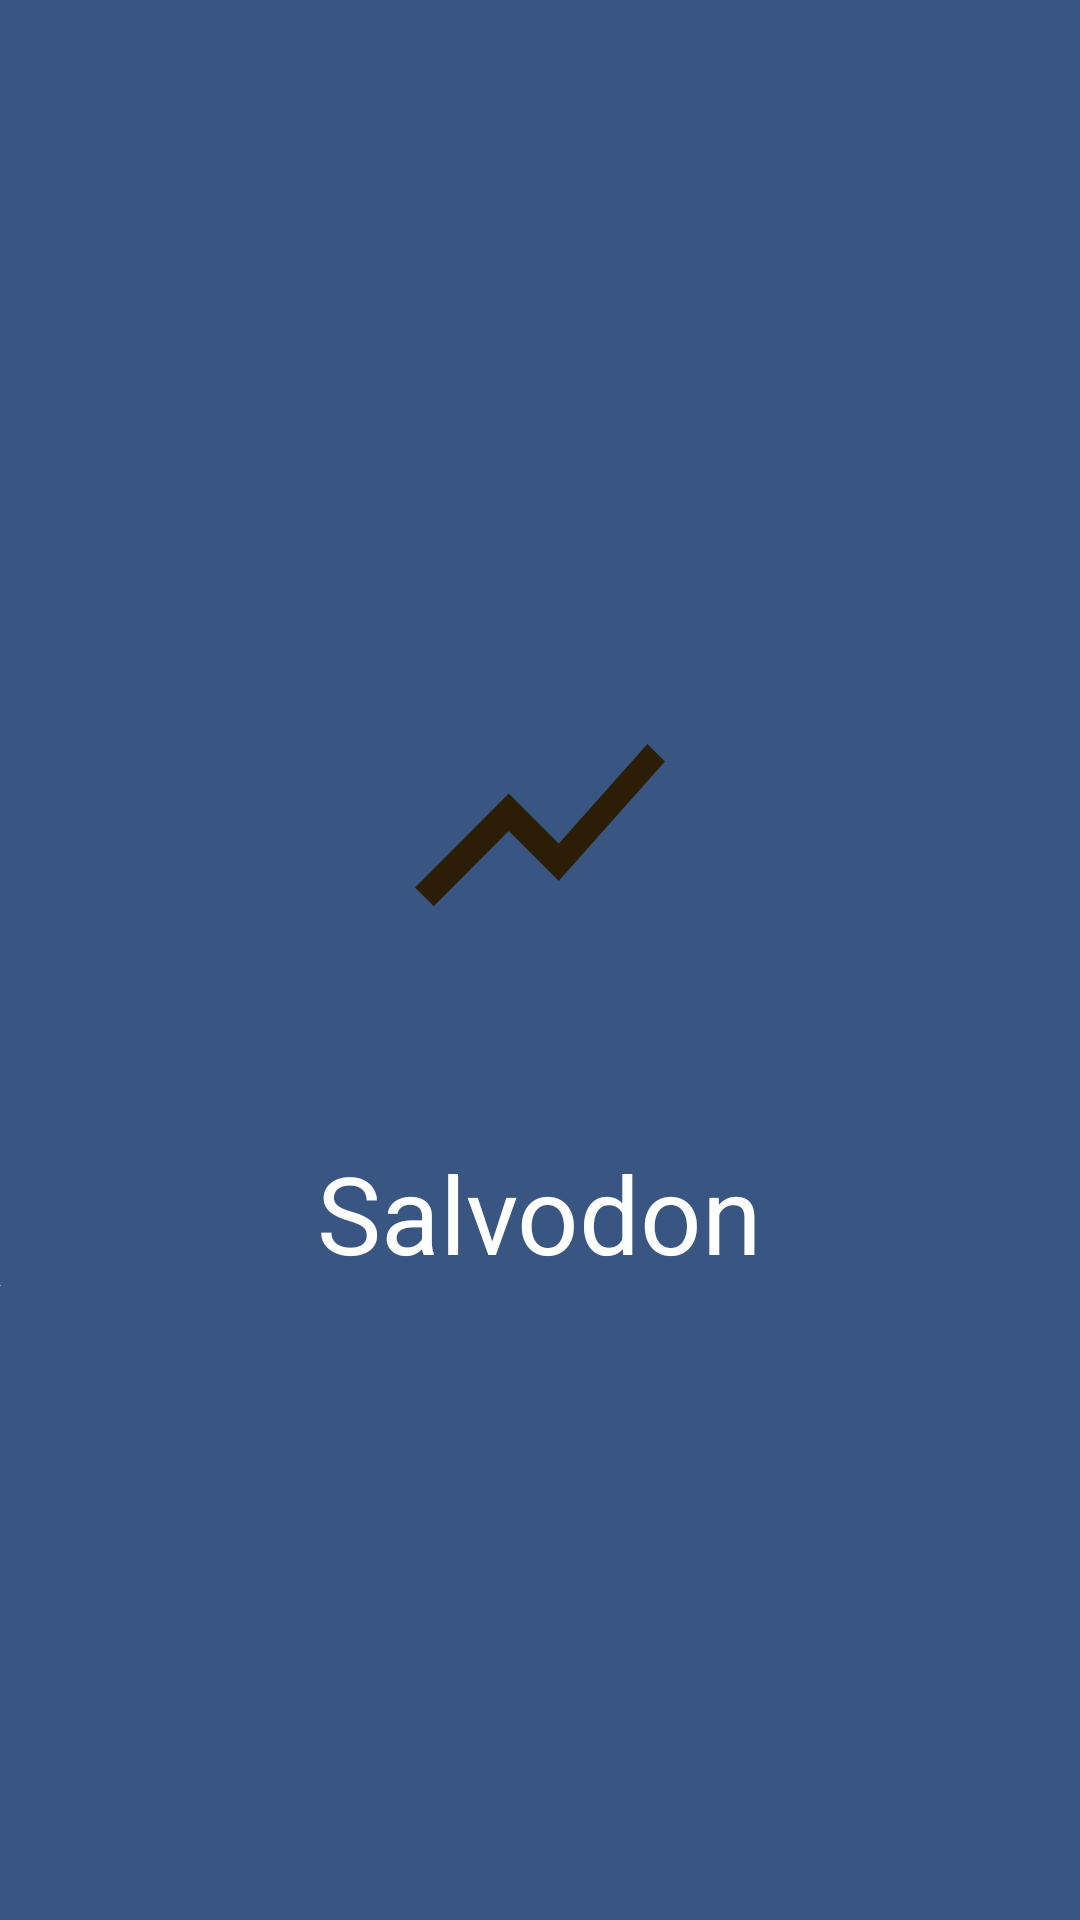

Named icons in this screenshot (1080 x 1920) and their centers, (x,y):
show chart: (540,825)
